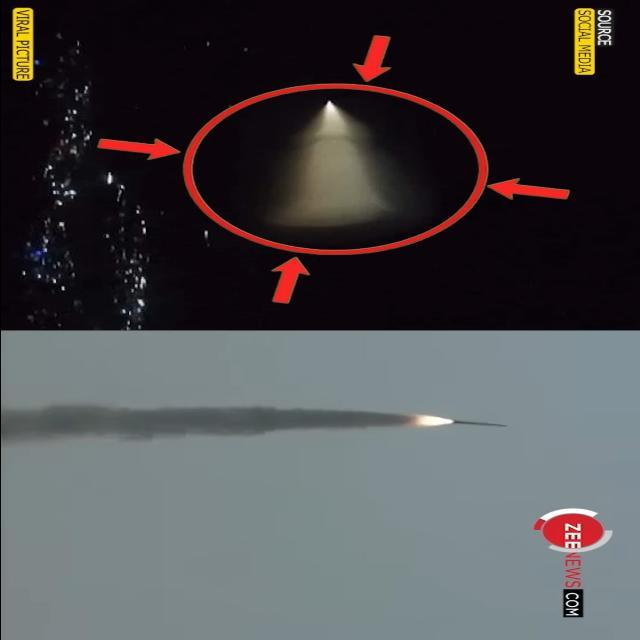Missile: (441, 419, 512, 429)
